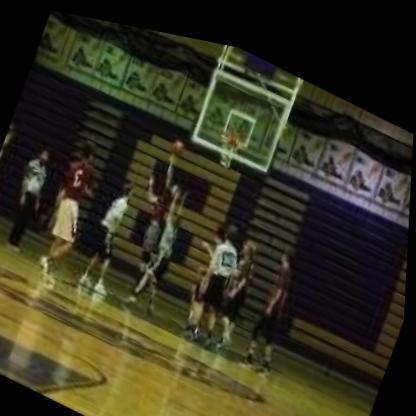basketball: (169, 127, 190, 155)
